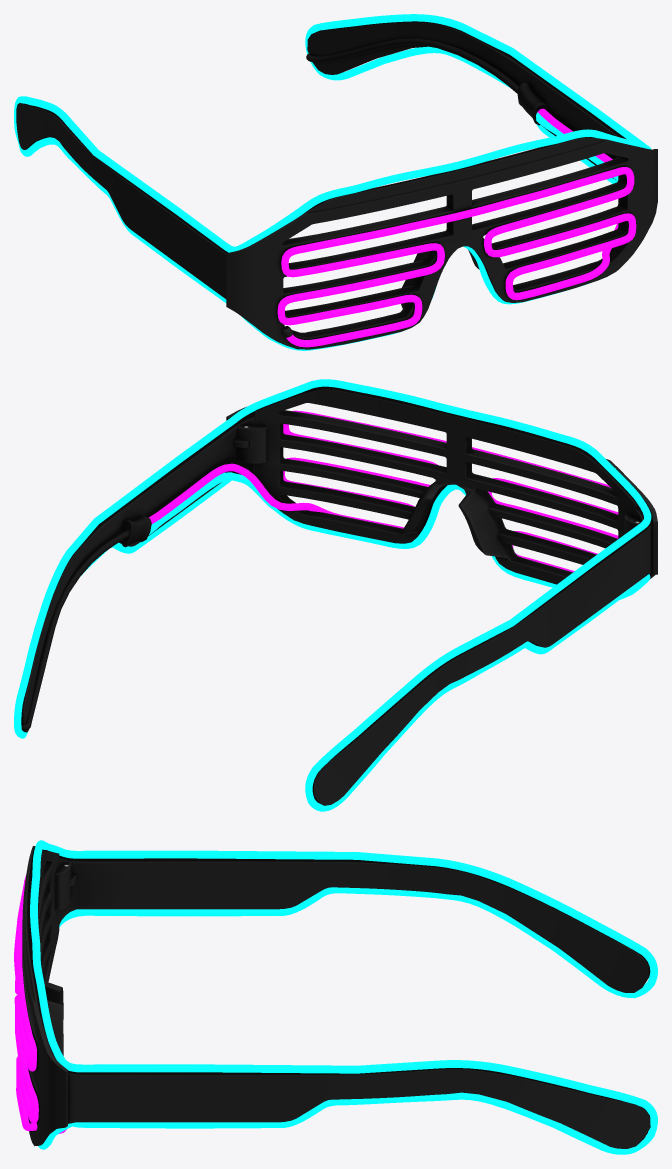
The model's file is PartyGlass.gltf.
The picture shows the model from 3 angles, top to bottom: view 1: azimuth 30°, elevation 25°; view 2: azimuth 150°, elevation 25°; view 3: azimuth 270°, elevation 25°; orthographic projection. The views are drawn at different scales.
Visible parts, largest first — view 1: Cube.010, Cube.007; view 2: Cube.010, Cube.007; view 3: Cube.010, Cube.007.
Boxes of the visible parts, left/top/right/bottom form: Cube.010: left=16, top=21, right=657, bottom=349; Cube.007: left=14, top=14, right=650, bottom=350; Cube.010: left=21, top=386, right=657, bottom=805; Cube.007: left=14, top=379, right=651, bottom=811; Cube.010: left=22, top=846, right=650, bottom=1148; Cube.007: left=14, top=840, right=657, bottom=1154.
Size of the model in its own units: 515 by 183 by 631.
2 materials, 2 textured.
